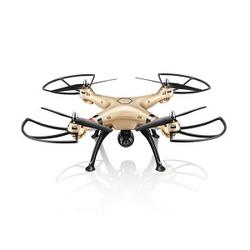drone: (20, 73, 227, 175)
